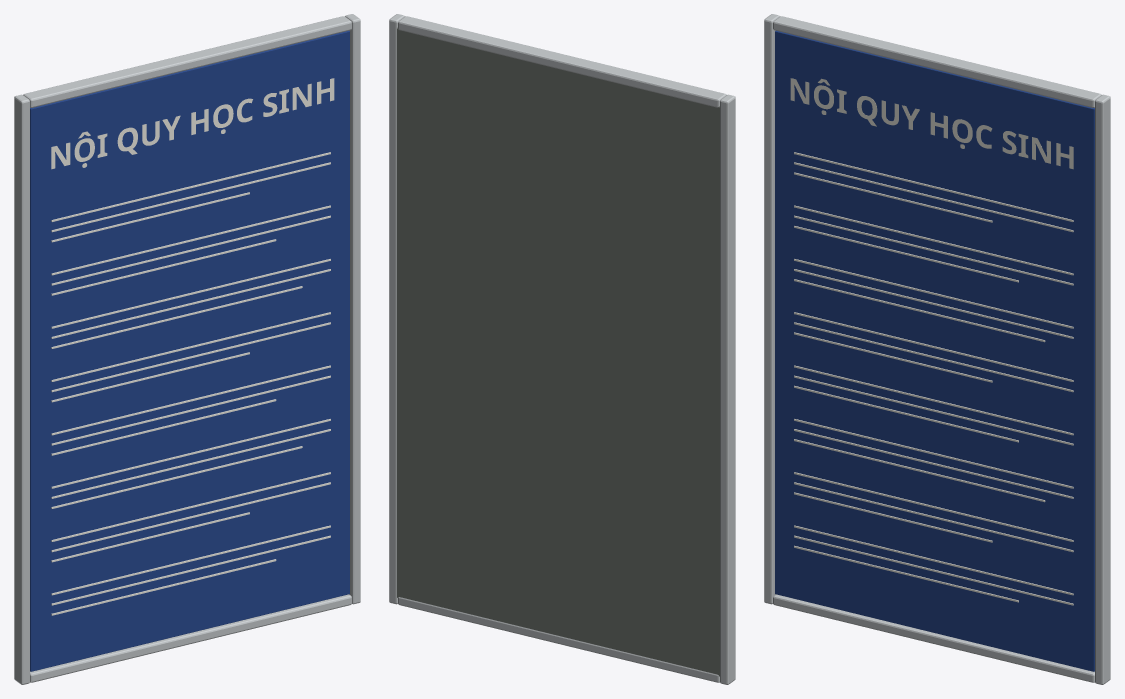
File: classroom_rules_board.glb
3 renders of one model, left to right at view 1: azimuth 30°, elevation 25°; view 2: azimuth 150°, elevation 25°; view 3: azimuth 330°, elevation 25°, orthographic.
Visible parts, largest first — view 1: KAClass_Rules_Blue_Print_Panel, KAClass_Rules_Aluminium_Frame_Vertical, KAClass_Rules_Aluminium_Frame_Vertical.001, KAClass_Rules_Aluminium_Frame_Horizontal.001, KAClass_Rules_Aluminium_Frame_Horizontal, KAClass_Rules_Title, KAClass_Rules_Layout_Line_5_1, KAClass_Rules_Layout_Line_2_1, KAClass_Rules_Layout_Line_2_2, KAClass_Rules_Layout_Line_3_2, KAClass_Rules_Layout_Line_4_1, KAClass_Rules_Layout_Line_5_2 (+18 smaller); view 2: KAClass_Rules_Backboard, KAClass_Rules_Aluminium_Frame_Vertical, KAClass_Rules_Aluminium_Frame_Horizontal.001, KAClass_Rules_Aluminium_Frame_Vertical.001, KAClass_Rules_Aluminium_Frame_Horizontal; view 3: KAClass_Rules_Blue_Print_Panel, KAClass_Rules_Aluminium_Frame_Vertical.001, KAClass_Rules_Aluminium_Frame_Vertical, KAClass_Rules_Aluminium_Frame_Horizontal.001, KAClass_Rules_Aluminium_Frame_Horizontal, KAClass_Rules_Title, KAClass_Rules_Layout_Line_5_1, KAClass_Rules_Layout_Line_2_1, KAClass_Rules_Layout_Line_2_2, KAClass_Rules_Layout_Line_3_2, KAClass_Rules_Layout_Line_4_1, KAClass_Rules_Layout_Line_5_2 (+18 smaller).
Boxes of the visible parts, x1=… form: KAClass_Rules_Blue_Print_Panel: x1=30, y1=30, x2=349, y2=671; KAClass_Rules_Aluminium_Frame_Vertical: x1=14, y1=94, x2=29, y2=684; KAClass_Rules_Aluminium_Frame_Vertical.001: x1=345, y1=14, x2=360, y2=604; KAClass_Rules_Aluminium_Frame_Horizontal.001: x1=23, y1=16, x2=351, y2=107; KAClass_Rules_Aluminium_Frame_Horizontal: x1=30, y1=594, x2=351, y2=682; KAClass_Rules_Title: x1=51, y1=78, x2=334, y2=169; KAClass_Rules_Layout_Line_5_1: x1=51, y1=365, x2=330, y2=435; KAClass_Rules_Layout_Line_2_1: x1=51, y1=205, x2=330, y2=275; KAClass_Rules_Layout_Line_2_2: x1=51, y1=215, x2=330, y2=285; KAClass_Rules_Layout_Line_3_2: x1=51, y1=269, x2=330, y2=338; KAClass_Rules_Layout_Line_4_1: x1=51, y1=312, x2=330, y2=381; KAClass_Rules_Layout_Line_5_2: x1=51, y1=375, x2=330, y2=445; KAClass_Rules_Backboard: x1=397, y1=27, x2=719, y2=676; KAClass_Rules_Aluminium_Frame_Vertical: x1=720, y1=94, x2=735, y2=684; KAClass_Rules_Aluminium_Frame_Horizontal.001: x1=398, y1=16, x2=726, y2=107; KAClass_Rules_Aluminium_Frame_Vertical.001: x1=389, y1=14, x2=404, y2=604; KAClass_Rules_Aluminium_Frame_Horizontal: x1=398, y1=597, x2=719, y2=682; KAClass_Rules_Blue_Print_Panel: x1=775, y1=30, x2=1094, y2=671; KAClass_Rules_Aluminium_Frame_Vertical.001: x1=1095, y1=94, x2=1110, y2=684; KAClass_Rules_Aluminium_Frame_Vertical: x1=764, y1=14, x2=779, y2=604; KAClass_Rules_Aluminium_Frame_Horizontal.001: x1=773, y1=16, x2=1101, y2=107; KAClass_Rules_Aluminium_Frame_Horizontal: x1=773, y1=594, x2=1094, y2=682; KAClass_Rules_Title: x1=790, y1=78, x2=1073, y2=169; KAClass_Rules_Layout_Line_5_1: x1=794, y1=365, x2=1073, y2=435; KAClass_Rules_Layout_Line_2_1: x1=794, y1=205, x2=1073, y2=275; KAClass_Rules_Layout_Line_2_2: x1=794, y1=215, x2=1073, y2=285; KAClass_Rules_Layout_Line_3_2: x1=794, y1=269, x2=1073, y2=338; KAClass_Rules_Layout_Line_4_1: x1=794, y1=312, x2=1073, y2=381; KAClass_Rules_Layout_Line_5_2: x1=794, y1=375, x2=1073, y2=445.
Bounding box in the file's own units: 0.84 × 1.38 × 0.041.
